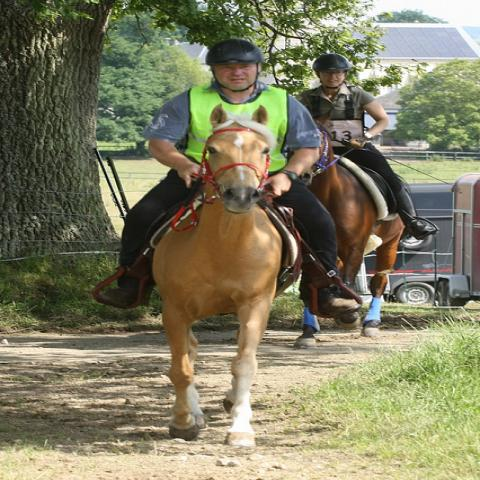truck: (386, 170, 479, 309)
